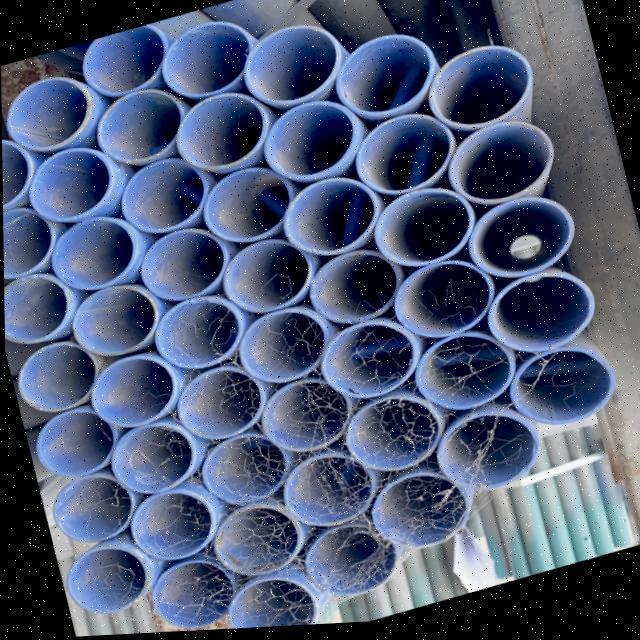pipe: (436, 418, 537, 511), (427, 51, 531, 136), (511, 349, 613, 434), (445, 127, 552, 208), (490, 277, 594, 360), (303, 521, 396, 612), (164, 22, 258, 110), (355, 120, 457, 201), (339, 40, 441, 121), (472, 203, 576, 281), (250, 30, 346, 114), (367, 481, 465, 563), (391, 265, 491, 345), (343, 402, 443, 482), (373, 196, 473, 275), (284, 183, 380, 265), (321, 329, 419, 407), (267, 107, 359, 190), (414, 337, 509, 417), (175, 95, 269, 175), (311, 252, 401, 331), (99, 90, 187, 170), (50, 218, 139, 296), (286, 458, 379, 532), (223, 243, 312, 320), (206, 170, 295, 247), (174, 372, 263, 449), (262, 382, 354, 456), (87, 25, 173, 104), (142, 231, 230, 308), (125, 160, 209, 239), (72, 285, 157, 363), (215, 509, 303, 584), (243, 312, 329, 388), (158, 300, 244, 376), (31, 148, 113, 225), (89, 355, 177, 426), (198, 442, 287, 511), (147, 563, 233, 633), (112, 427, 196, 498), (130, 495, 214, 565), (9, 79, 89, 152), (63, 551, 146, 620), (51, 478, 133, 546), (35, 413, 116, 481), (16, 345, 94, 415), (3, 278, 69, 348), (226, 583, 318, 631), (2, 206, 52, 281), (2, 139, 30, 208)
